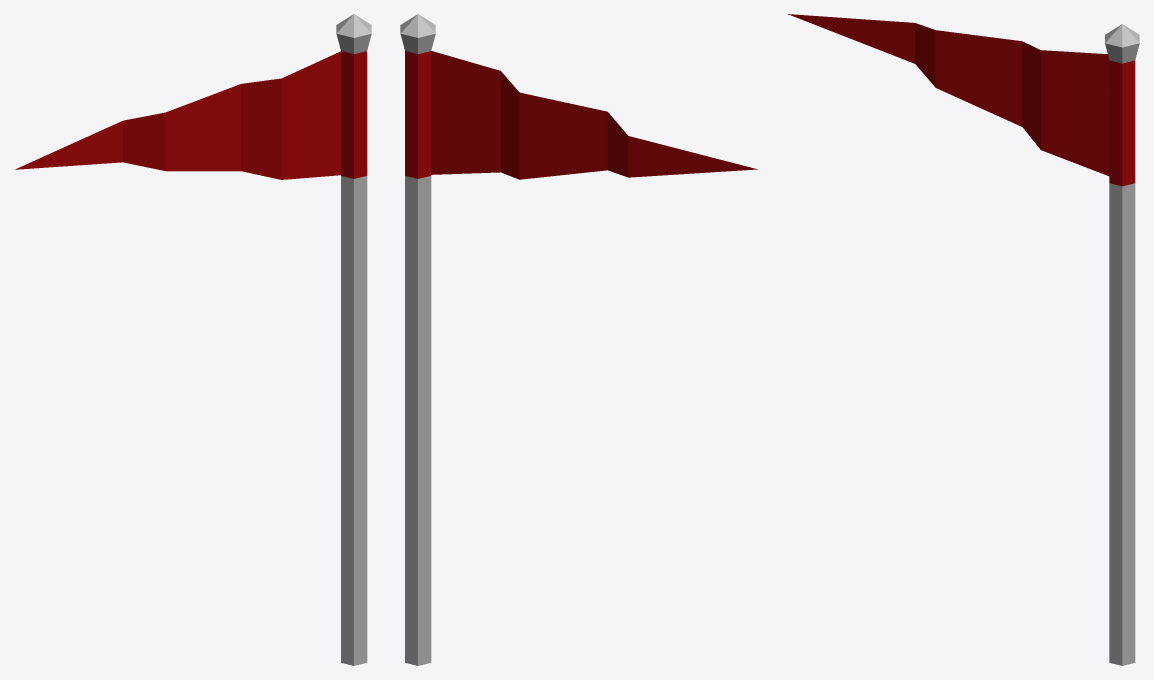
File: castle-flag_02.fbx
3 views of the same model, side by side, from view 1: azimuth 30°, elevation 25°; view 2: azimuth 150°, elevation 25°; view 3: azimuth 330°, elevation 25° (orthographic).
Visible parts, largest first — view 1: castle-flag_02; view 2: castle-flag_02; view 3: castle-flag_02.
Boxes of the visible parts, x1,y1,x2,y2 form: castle-flag_02: (15,14,371,665); castle-flag_02: (400,14,757,665); castle-flag_02: (788,14,1139,665).
Size of the model in its own units: 273 by 470 by 25.43.
